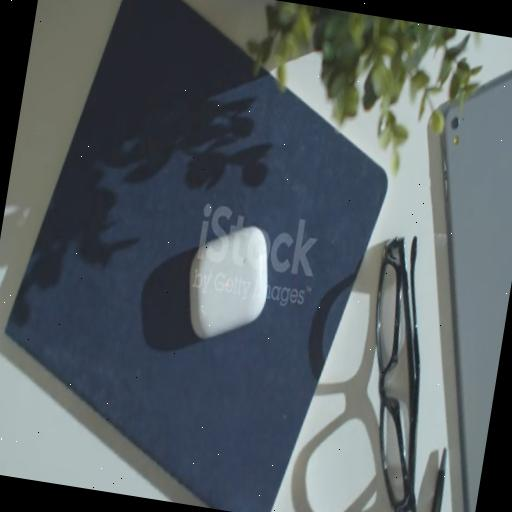earphone: (163, 222, 286, 340)
